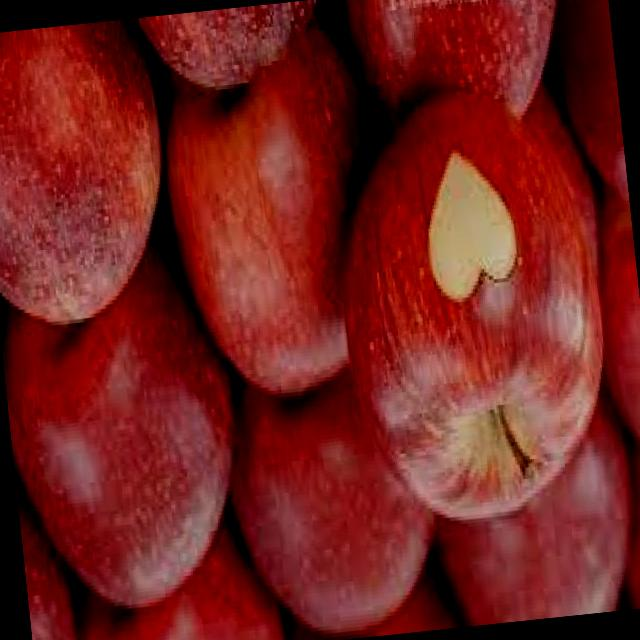Apple: (316, 82, 624, 533), (147, 25, 409, 413), (0, 261, 256, 623), (221, 352, 450, 640), (0, 16, 179, 338), (423, 391, 640, 628), (343, 0, 578, 134), (60, 528, 280, 640), (137, 2, 320, 97)
